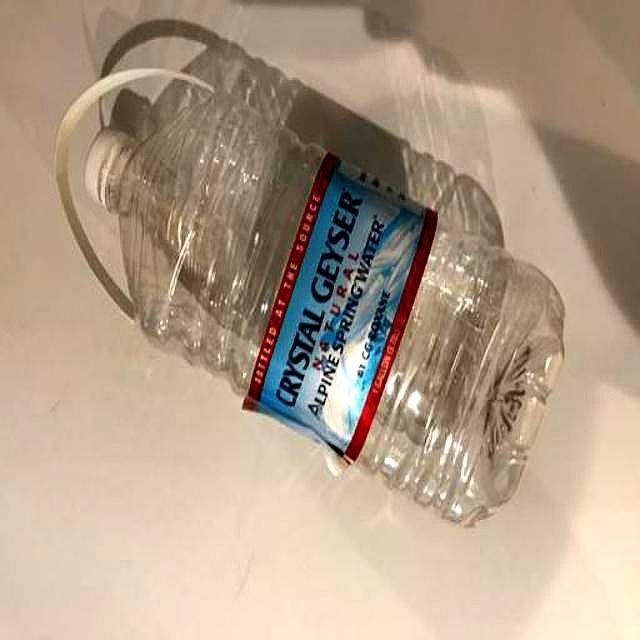Non-biodegradable: (27, 41, 585, 567)
